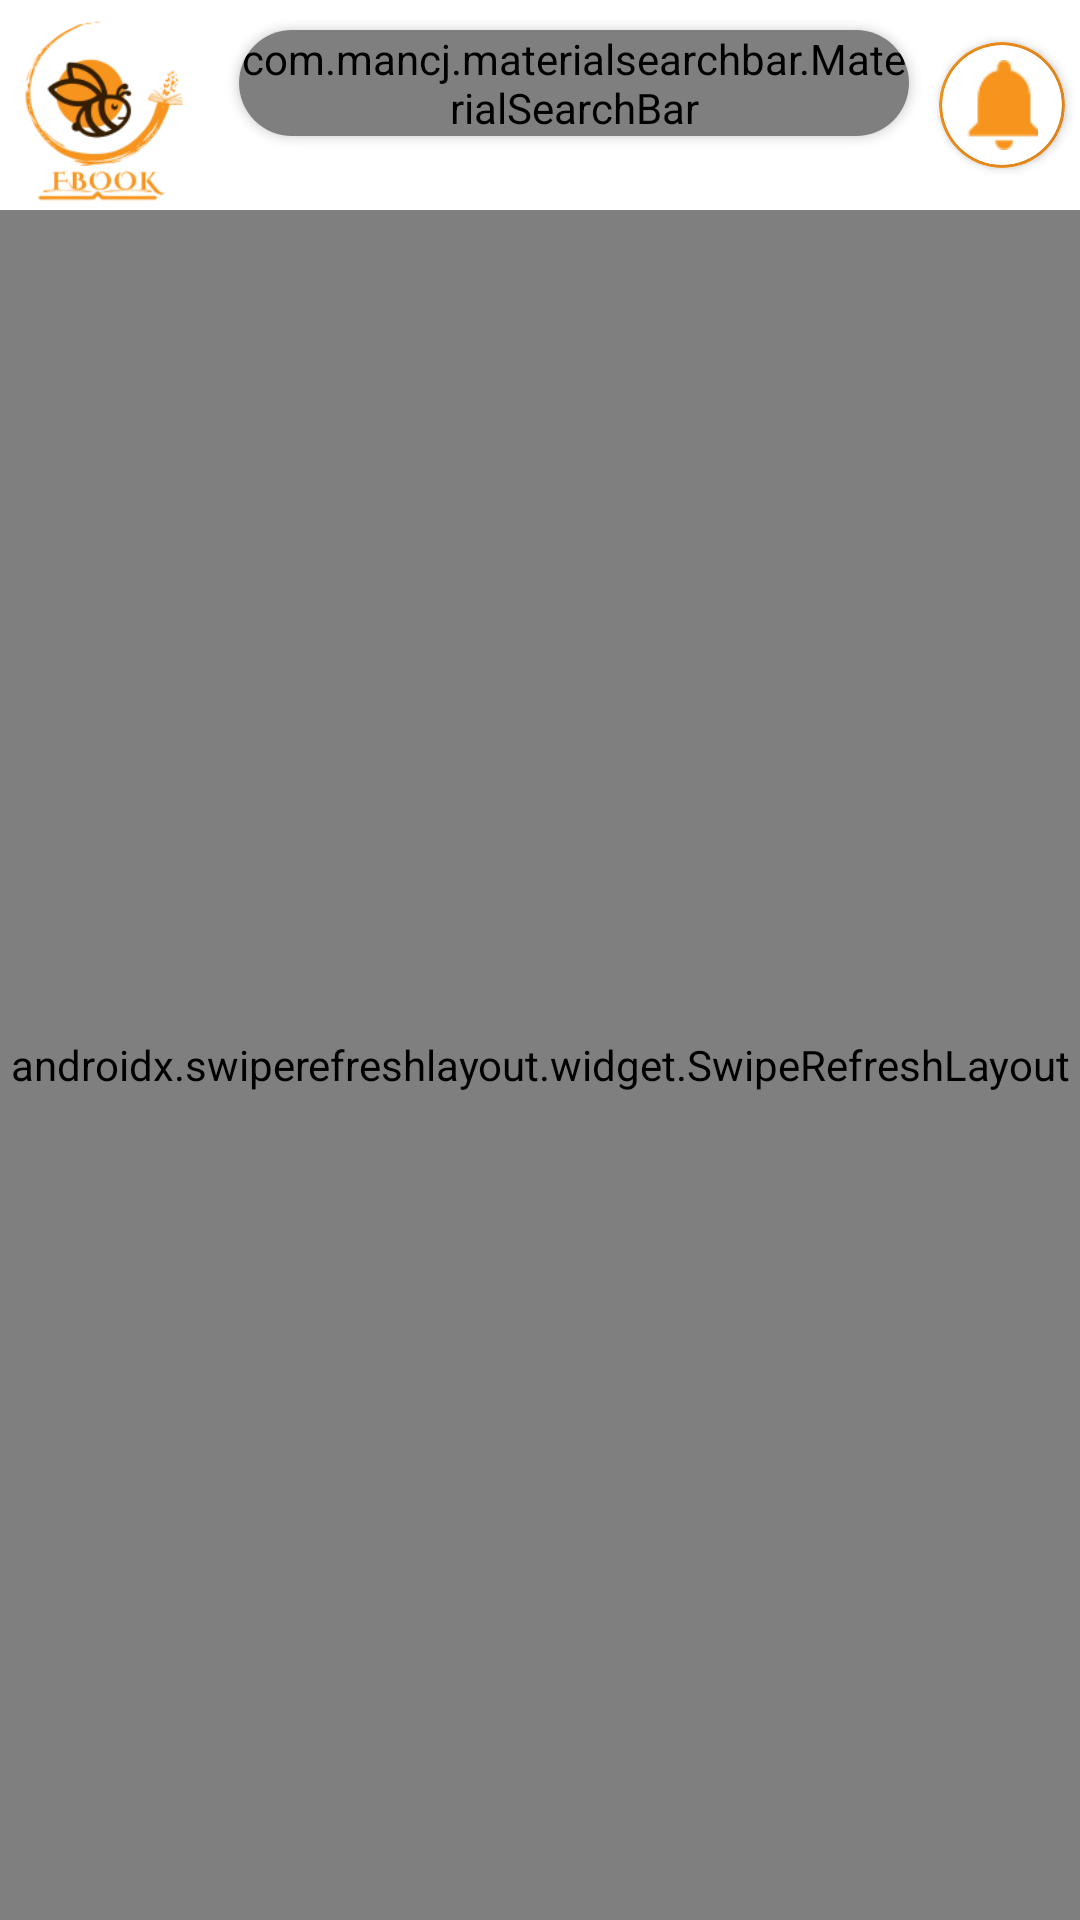

Point at icon controls on the screen. Image size 1080px×1920px, points as point (x, y).
notification: point (1002, 105)
